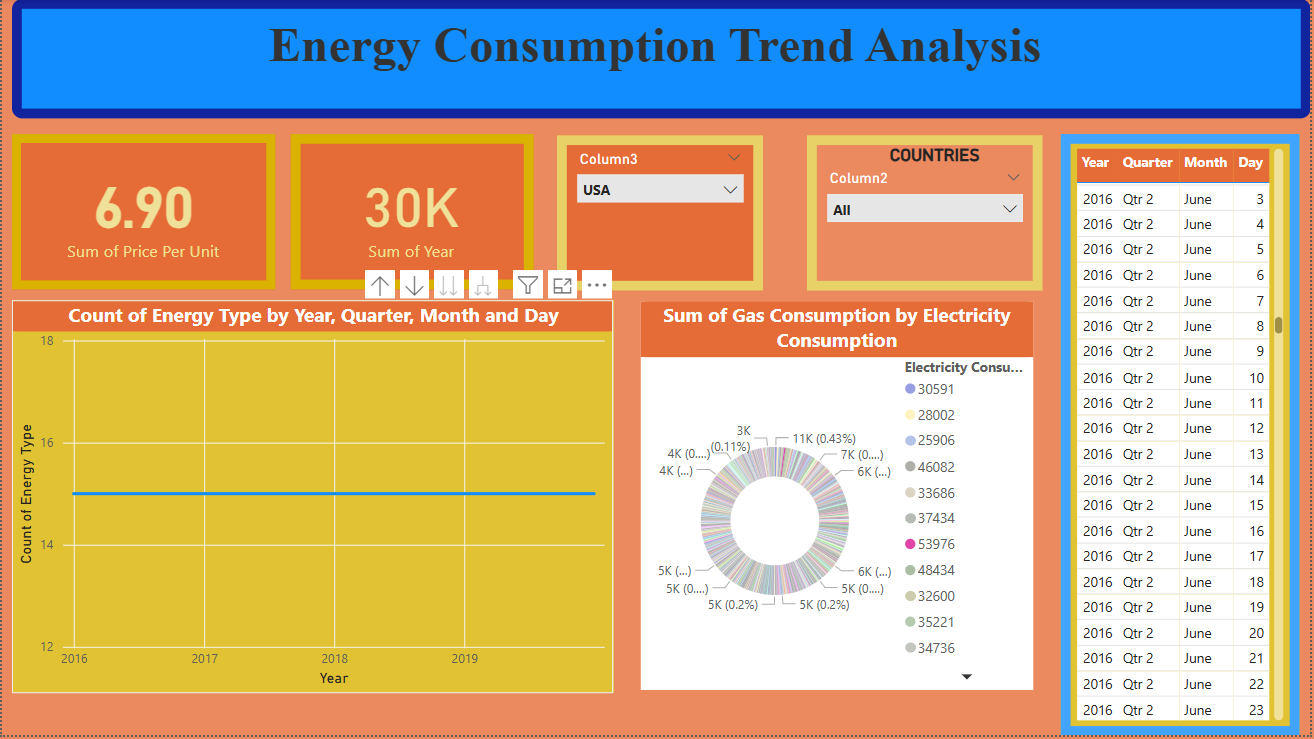

This screenshot's page, from the dashboard's own definition file:
{"tool":"powerbi","page":{"name":"Page 1","canvas":[1280,720],"ordinal":0},"visuals":[{"type":"textbox","box":[9.6,0,1270.7,116.6],"z":0},{"type":"card","fields":{"Values":["Sum(Rates.Price Per Unit)"]},"box":[9.6,131.7,258,152.3],"z":1000},{"type":"card","fields":{"Values":["Sum(Rates.Year)"]},"box":[282.7,131.7,237.4,152.3],"z":2000},{"type":"slicer","fields":{"Values":["Building Master.Column3"]},"box":[543.4,133.1,201.7,152.3],"z":3000},{"type":"slicer","title":"COUNTRIES","fields":{"Values":["Building Master.Column2"]},"box":[787.7,133.1,230.5,152.3],"z":4000},{"type":"lineChart","fields":{"Y":["CountNonNull(Rates.Energy Type)"],"Category":["Energy Consumptions.Date.Variation.Date Hierarchy.Year","Energy Consumptions.Date.Variation.Date Hierarchy.Quarter","Energy Consumptions.Date.Variation.Date Hierarchy.Month","Energy Consumptions.Date.Variation.Date Hierarchy.Day"]},"box":[9.6,295,588.7,384.2],"z":5000},{"type":"tableEx","fields":{"Values":["Energy Consumptions.Date.Variation.Date Hierarchy.Year","Energy Consumptions.Date.Variation.Date Hierarchy.Quarter","Energy Consumptions.Date.Variation.Date Hierarchy.Month","Energy Consumptions.Date.Variation.Date Hierarchy.Day"]},"box":[1036,131.7,233.3,588.7],"z":5001},{"type":"donutChart","fields":{"Category":["Energy Consumptions.Electricity Consumption"],"Y":["Sum(Energy Consumptions.Gas Consumption)"]},"box":[624.9,295.9,384,380.3],"z":5002}]}

Visuals, with their boxes in screenshot pixels (x1, y1, x2, y2), scaled from the page's 1280x720 canvas onto the 1314x739 screenshot:
textbox: <bbox>10, 0, 1313, 120</bbox>
card - Sum(Rates.Price Per Unit): <bbox>10, 135, 275, 291</bbox>
card - Sum(Rates.Year): <bbox>290, 135, 534, 291</bbox>
slicer - Building Master.Column3: <bbox>558, 137, 765, 293</bbox>
"COUNTRIES" slicer: <bbox>809, 137, 1045, 293</bbox>
lineChart - CountNonNull(Rates.Energy Type) x Energy Consumptions.Date.Variation.Date Hierarchy.Year: <bbox>10, 303, 614, 697</bbox>
tableEx - Energy Consumptions.Date.Variation.Date Hierarchy.Year x Energy Consumptions.Date.Variation.Date Hierarchy.Quarter: <bbox>1064, 135, 1303, 738</bbox>
donutChart - Energy Consumptions.Electricity Consumption x Sum(Energy Consumptions.Gas Consumption): <bbox>641, 304, 1036, 694</bbox>
